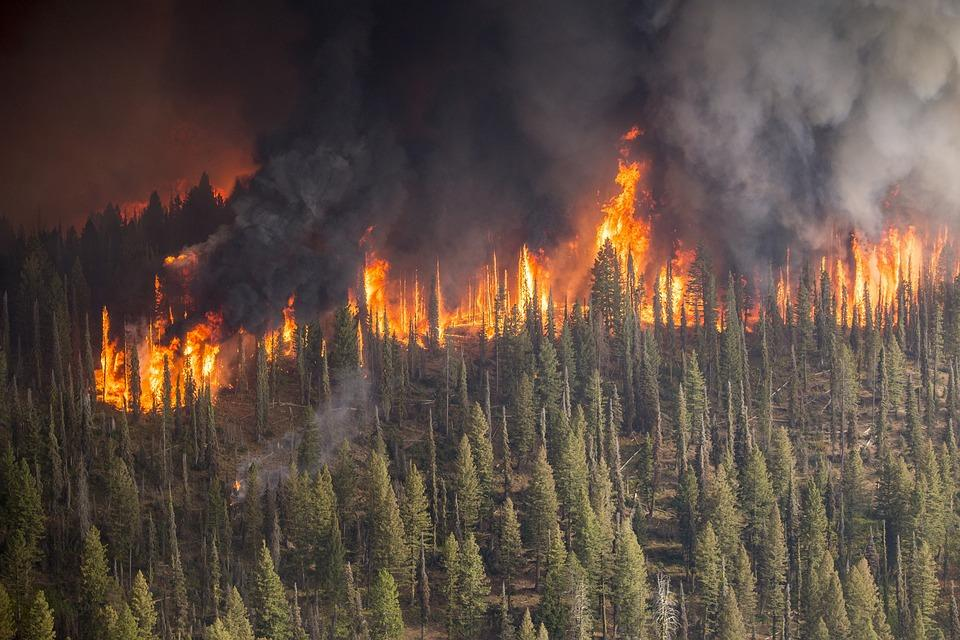smoke: (131, 4, 956, 331)
